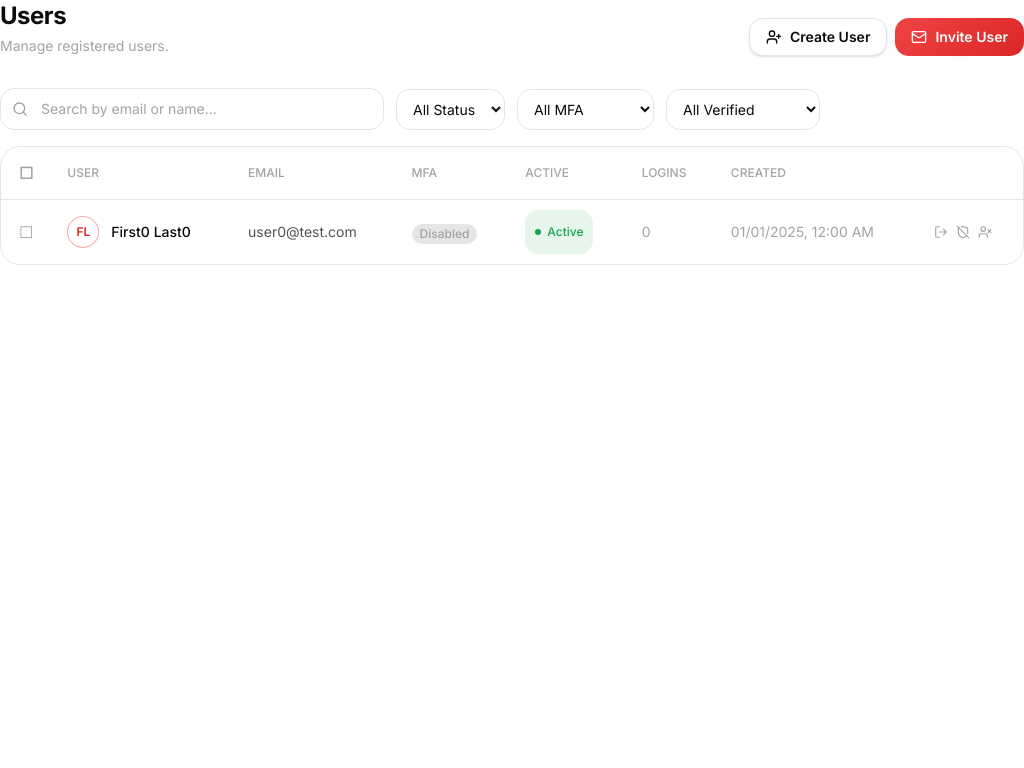
Test case: AdminUsersPage › shows editable first name and last name fields in drawer
This screenshot has width=1024, height=768.
Click the row with test id "user-table-row".
click(83, 232)  # box [1,200,1023,264]
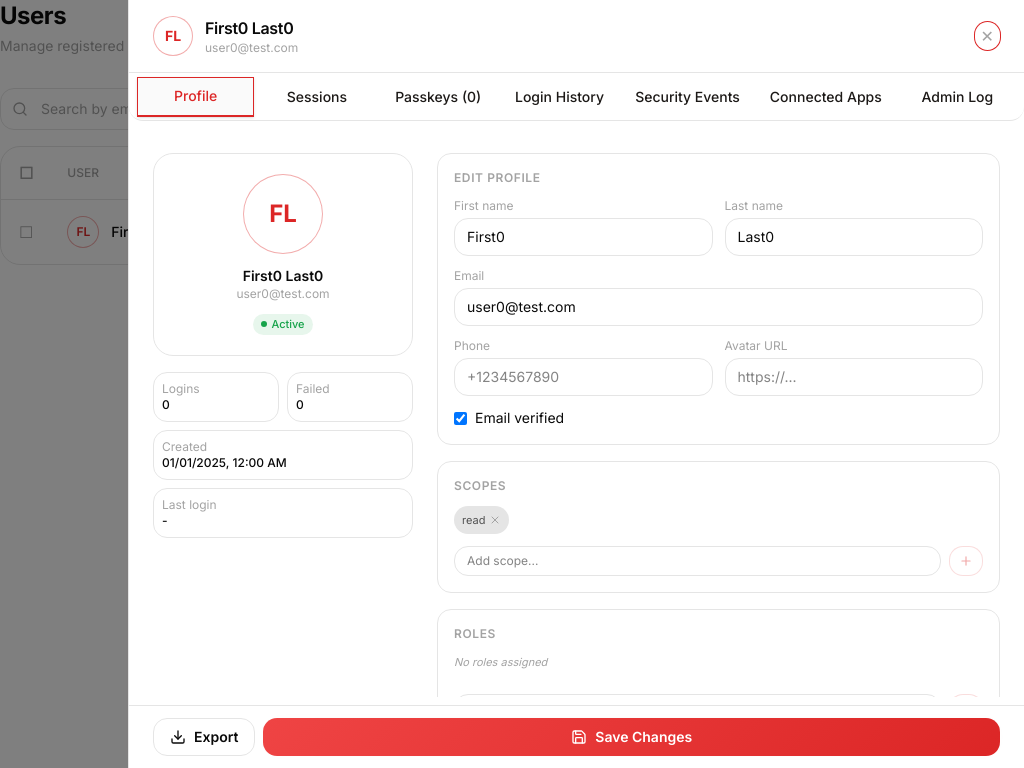
Expected: the field showing "First0" below "First name" is shown, [454,218,712,256]
Expected: the field showing "Last0" below "Last name" is shown, [724,218,983,256]
